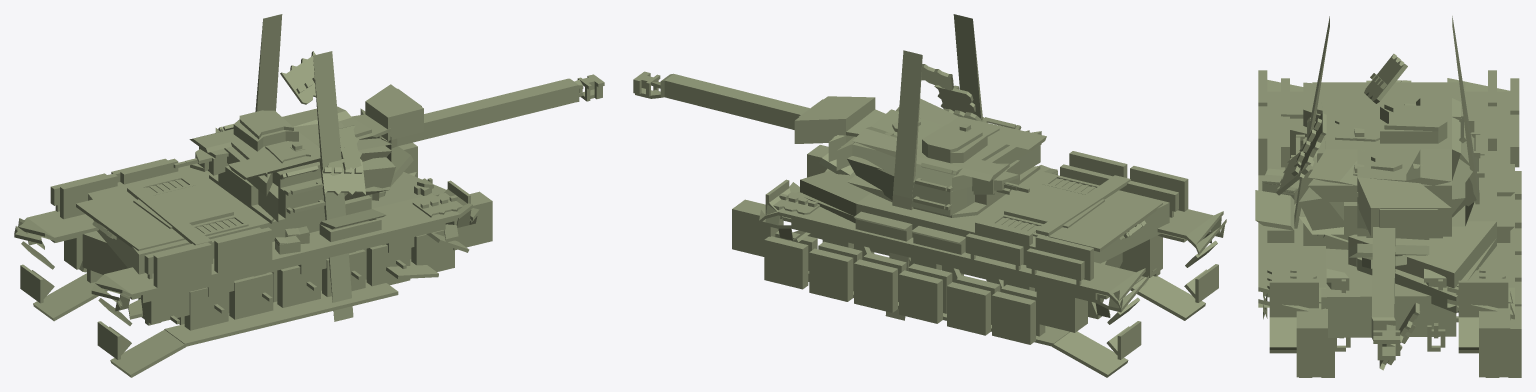
3 views of the same model, side by side, from view 1: azimuth 30°, elevation 25°; view 2: azimuth 150°, elevation 25°; view 3: azimuth 270°, elevation 25° (orthographic). The views are drawn at different scales.
Visible parts, largest first — view 1: tank; view 2: tank; view 3: tank.
Part boxes in pixels (left/top/right/bottom): tank: left=14, top=14, right=604, bottom=377; tank: left=633, top=14, right=1226, bottom=377; tank: left=1255, top=16, right=1521, bottom=377.
Bounding box in the file's own units: 167 × 76.2 × 59.19.
